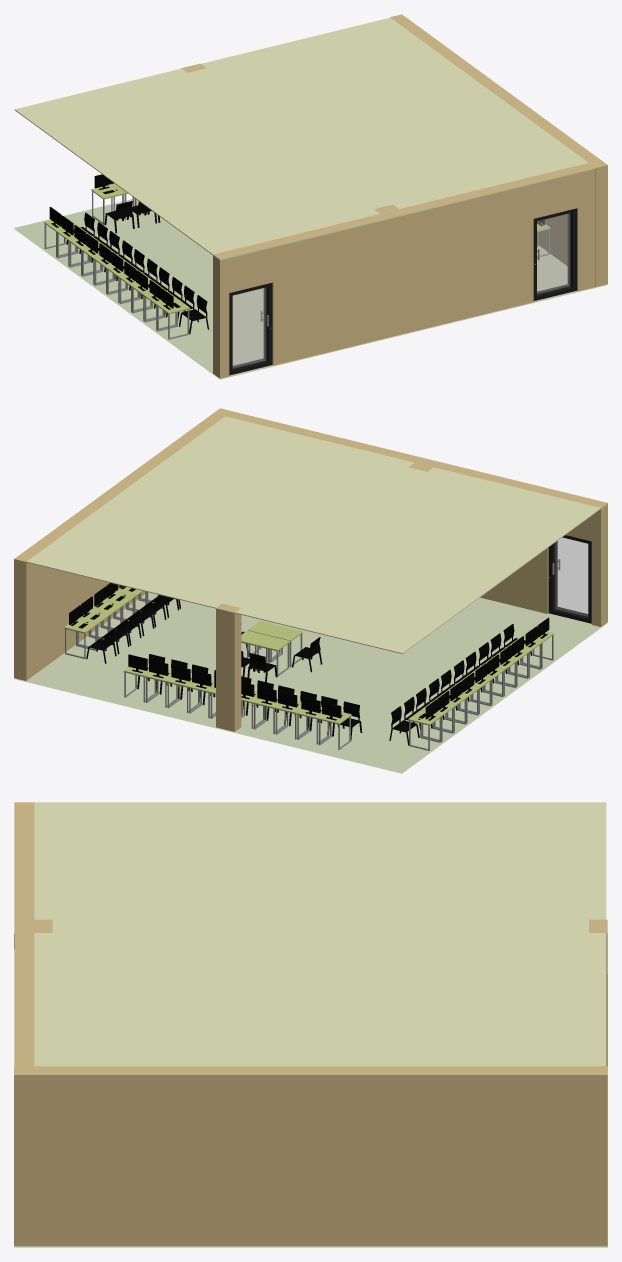
Rendered from CCIS_LabRm6_v1.glb.
3 views of the same model, one above another, from view 1: azimuth 30°, elevation 25°; view 2: azimuth 150°, elevation 25°; view 3: azimuth 270°, elevation 25° (orthographic). The views are drawn at different scales.
Parts seen in each view (by area): view 1: LabRm2 Floor.010; view 2: LabRm2 Floor.010; view 3: LabRm2 Floor.010.
Part boxes in pixels (x1=…): LabRm2 Floor.010: x1=14, y1=14, x2=607, y2=379; LabRm2 Floor.010: x1=14, y1=408, x2=607, y2=773; LabRm2 Floor.010: x1=14, y1=802, x2=607, y2=1247.
Bounding box in the file's own units: 4.5 × 1.33 × 4.14.
